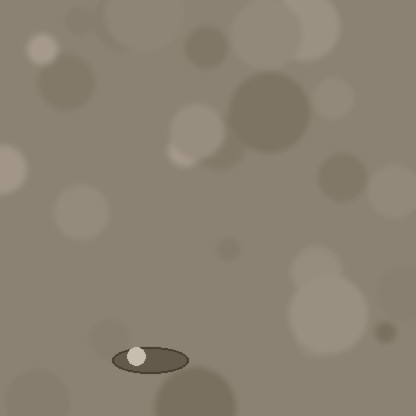gota: (112, 348, 188, 376)
